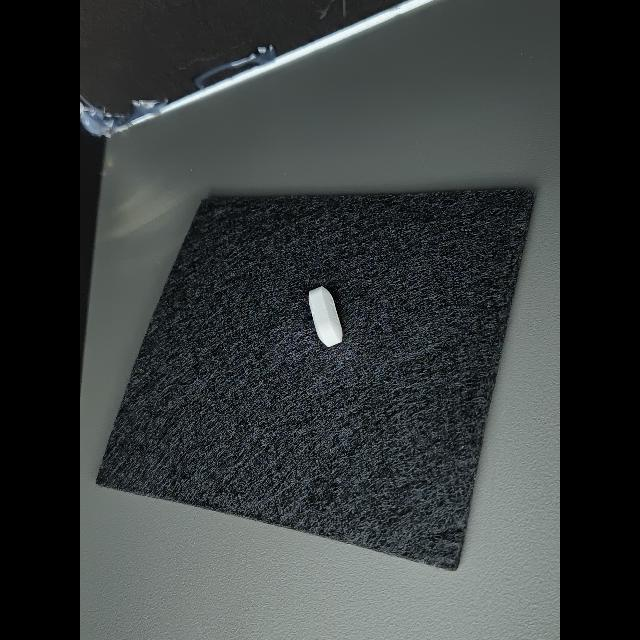Intact Pill: (309, 286, 342, 347)
